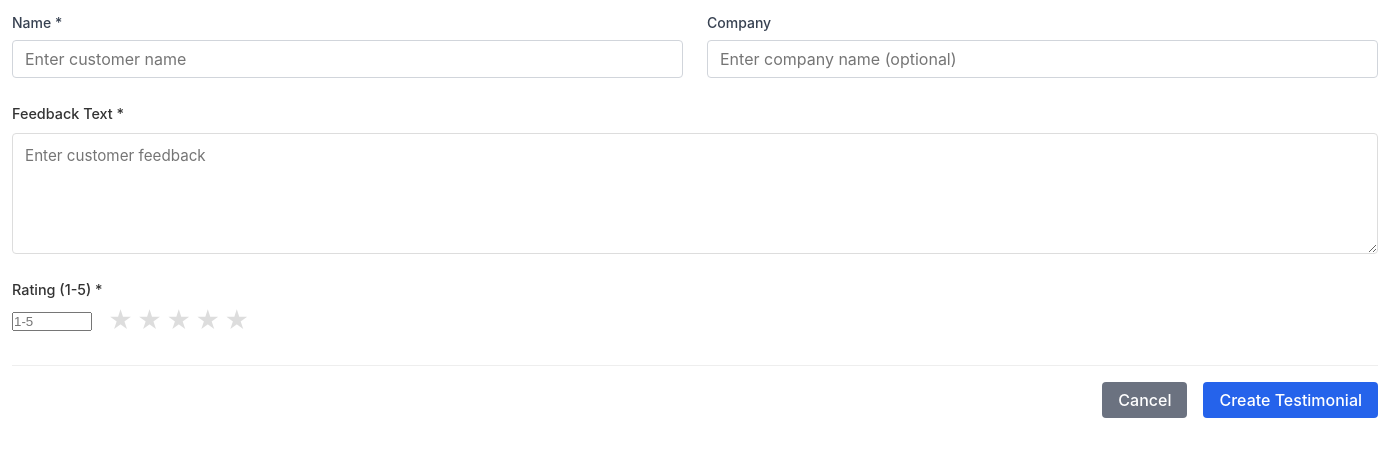
Test case: TestimonialForm - Real-time Validation › should clear validation error when user corrects the name input
The image size is (1390, 464).
Trigger validation error
Click the field labelled "Name *".
click(348, 59)  # box [12,40,683,78]
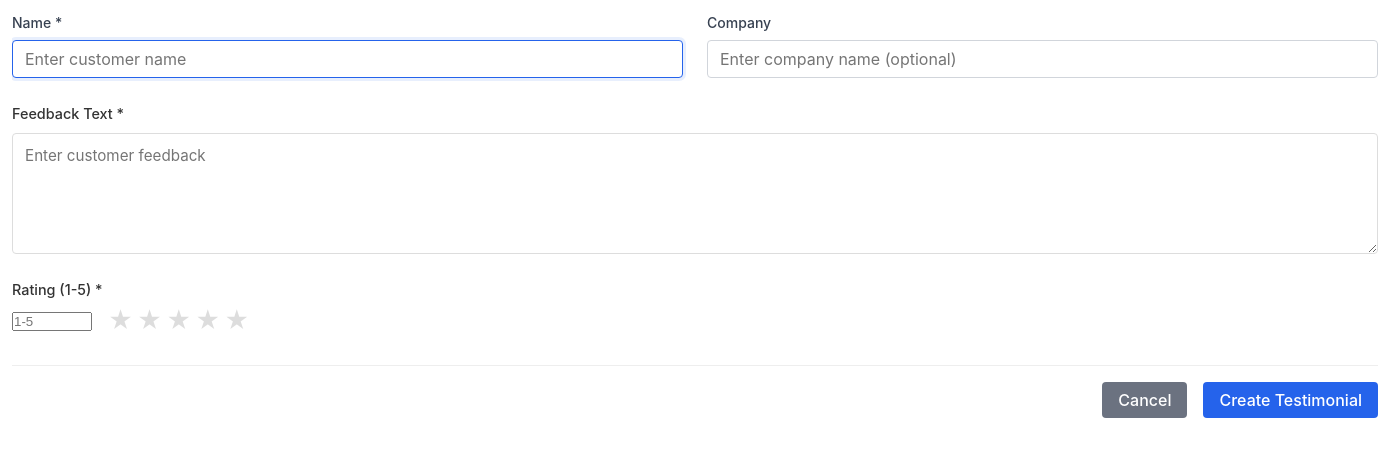
Press Tab
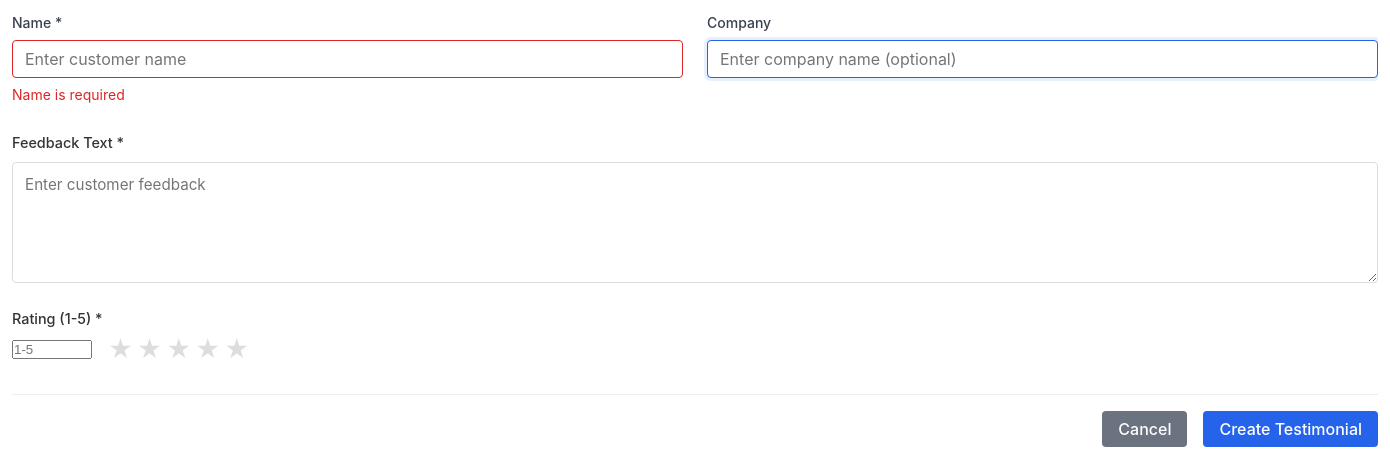
Result: the text "Name is required" is shown at [12,86,125,103]
Correct the input
Type "John Doe" into the field labelled "Name *".
click(348, 59); type("John Doe")  # box [12,40,683,78]
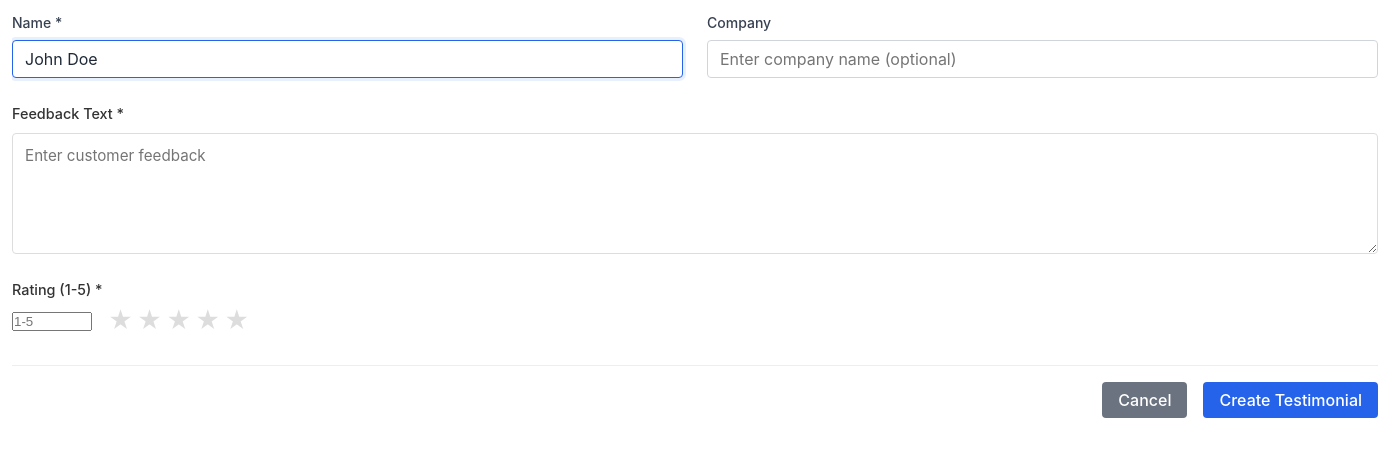
Result: the text "Name is required" is gone
